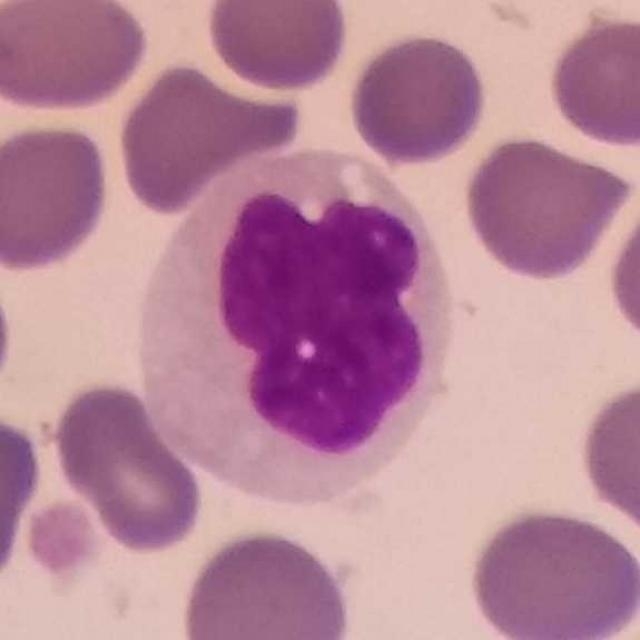Monocyte: (125, 142, 459, 512)
RBC: (48, 377, 209, 558), (113, 58, 290, 218), (458, 130, 636, 284), (464, 504, 639, 640), (176, 524, 357, 640), (345, 29, 491, 168), (0, 117, 116, 276), (0, 0, 151, 117), (202, 0, 353, 95), (543, 9, 640, 152), (573, 374, 640, 544), (0, 406, 46, 597), (603, 178, 640, 357)
